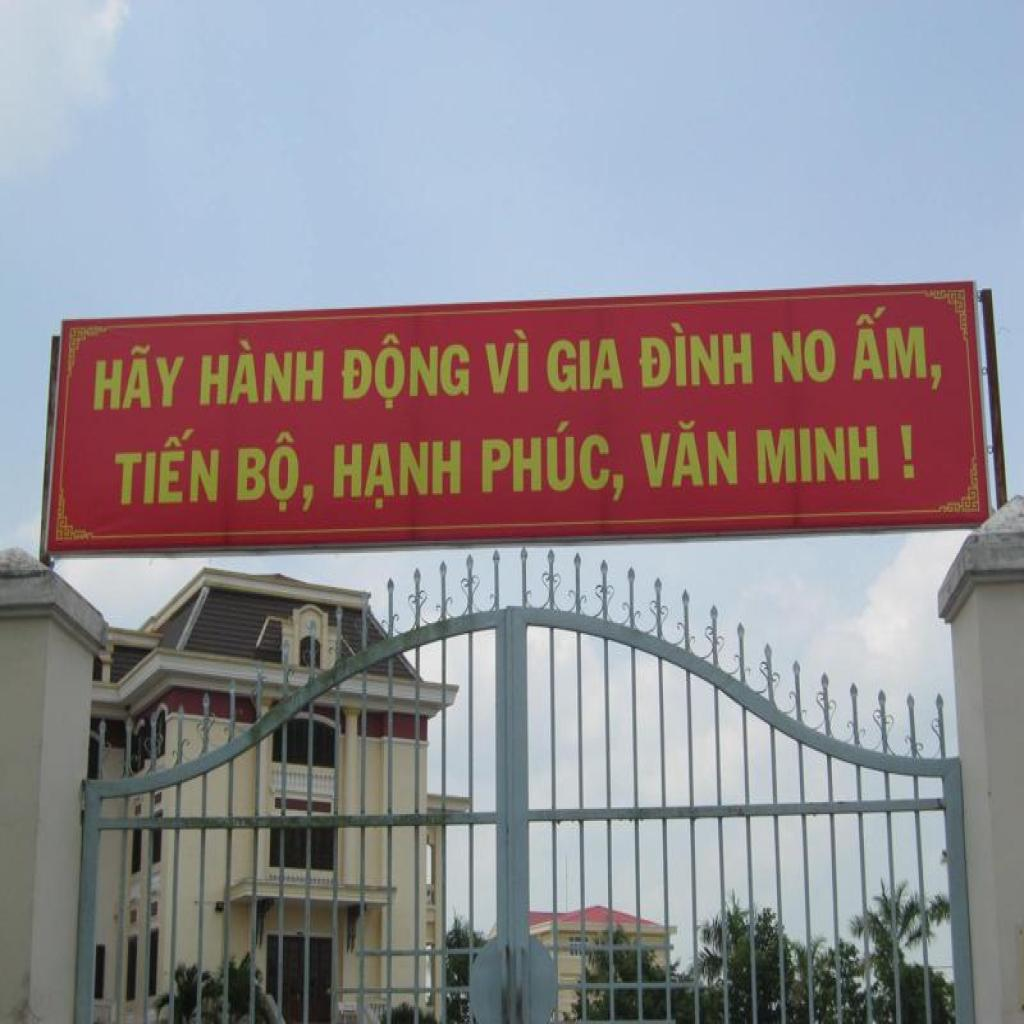text: (480, 418, 627, 507), (340, 333, 474, 415), (332, 437, 464, 515), (111, 426, 223, 508), (197, 338, 328, 408), (636, 321, 757, 394), (850, 304, 946, 396), (755, 422, 883, 488), (636, 416, 740, 494), (234, 430, 318, 517), (91, 343, 191, 415), (542, 334, 628, 398), (769, 326, 840, 387), (481, 326, 531, 399)
